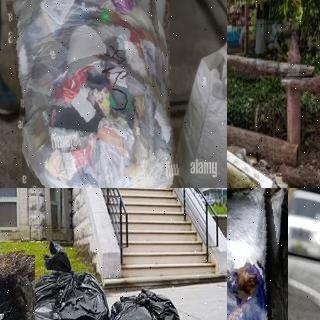Garbage: (14, 0, 177, 188), (227, 188, 297, 320), (27, 239, 109, 320), (93, 287, 186, 320)
